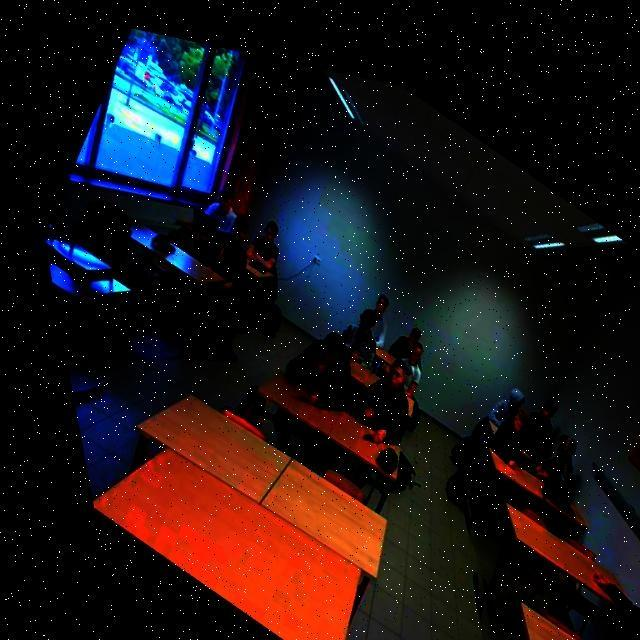phone_use: (284, 331, 351, 408), (341, 293, 387, 366)
